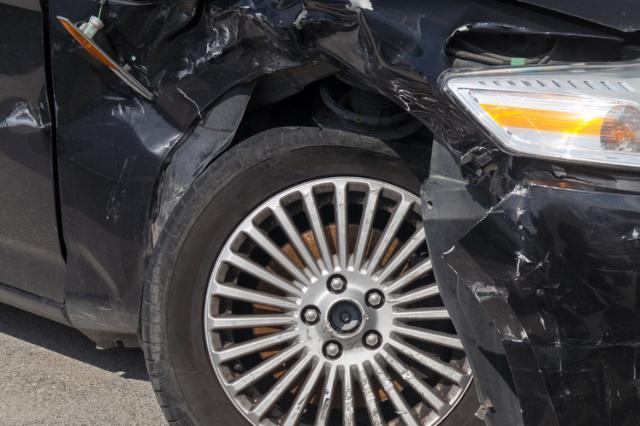Bumper: (430, 171, 640, 425)
Fender: (56, 0, 478, 225)
Light: (452, 36, 640, 180)
